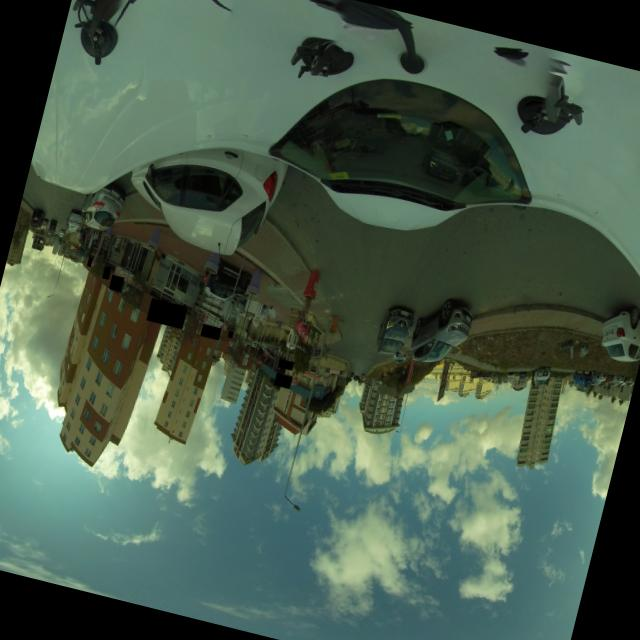SignStore: (147, 297, 184, 328), (199, 322, 220, 338), (274, 371, 290, 387), (108, 273, 123, 290), (277, 357, 292, 369), (101, 264, 110, 278), (86, 256, 91, 265), (227, 329, 233, 336)
